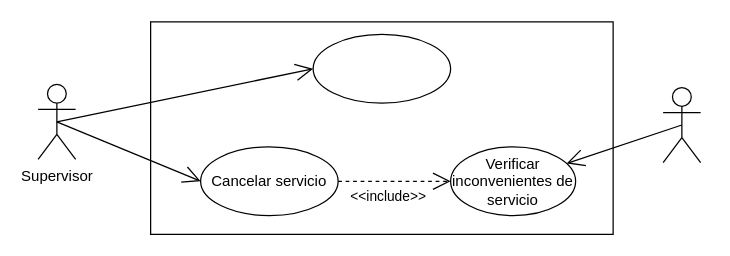
The diagram is 730 pixels wide and 256 high, and some of its shapes have lost their labels. Here are the shapes that lost their labels. From the top down, the centre of each, then its label:
At [381,68]: "Aceptar o rechazar tarjeta".
At [681,124]: "Sistema".
